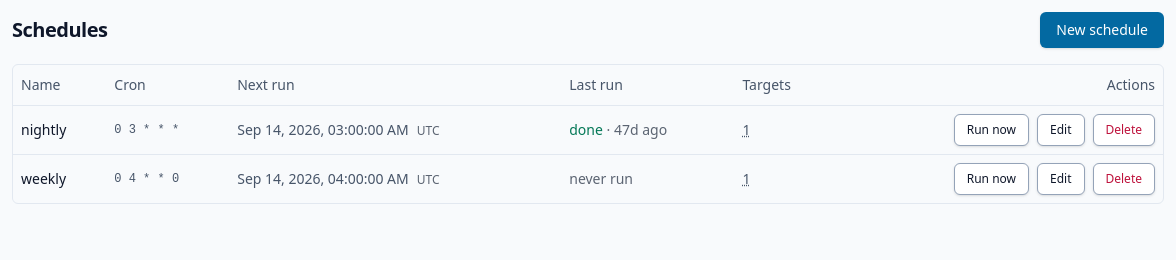
Schedules page › shows the target count and expands to chip names on click
The width and height of the screenshot is (1176, 260).
Expected: the text "nightly" is shown, 13,105 -> 106,154
Expected: the text "t1" is not shown
Click the button "1" in the row of "nightly" at (746, 130), box 742,120 -> 750,140
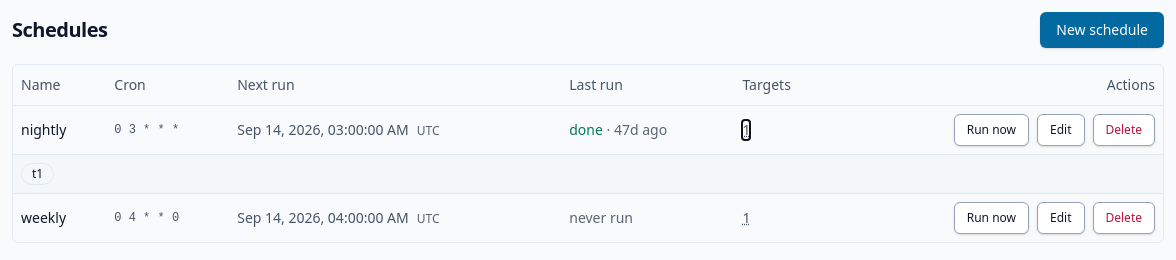
Expected: the text "t1" is shown, 21,162 -> 54,184
Click the button "1" in the row of "nightly" at (746, 130), box 742,120 -> 750,140
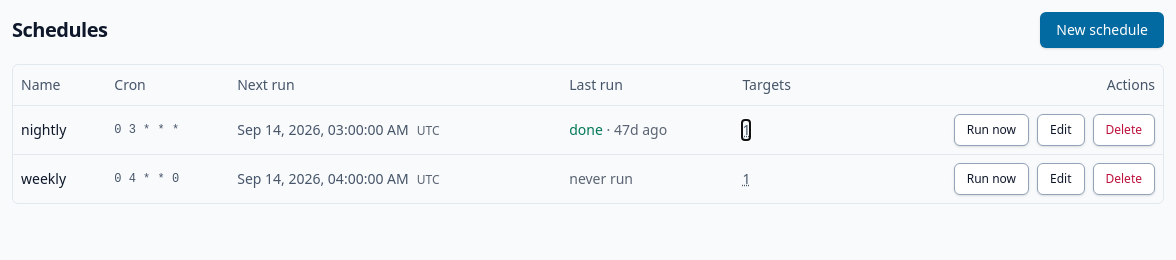
Expected: the text "t1" is gone
